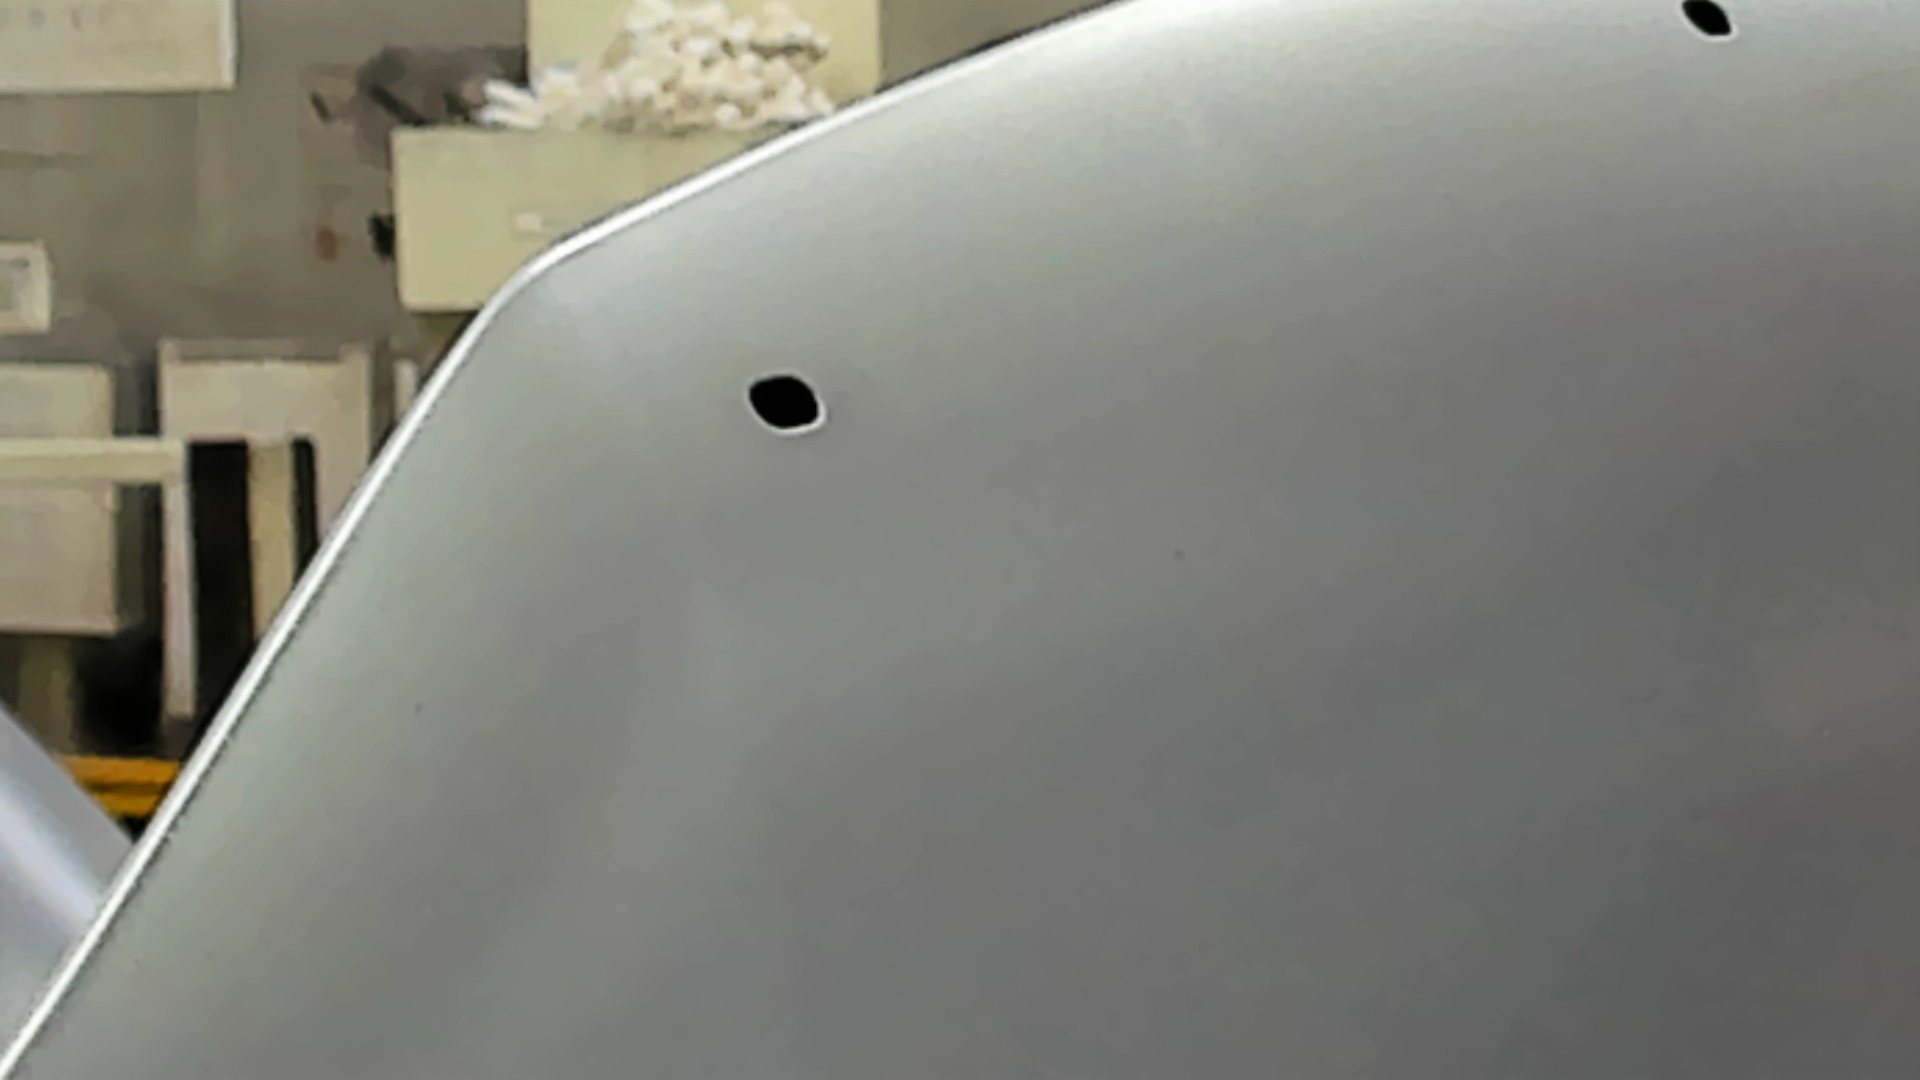amorfo: (742, 369, 829, 440), (1675, 1, 1743, 45)
